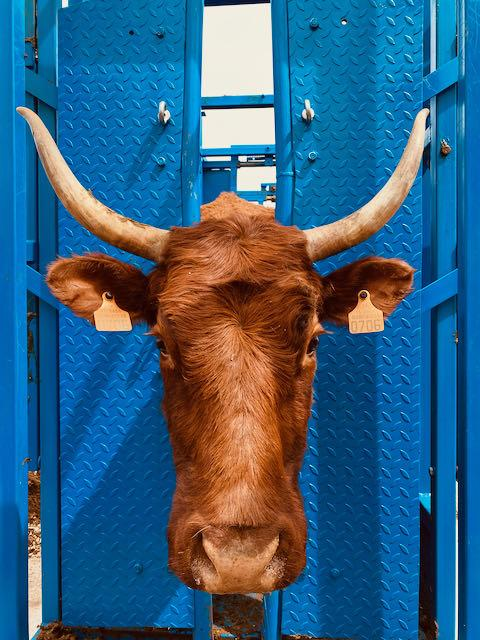muzzles: (169, 513, 312, 596)
